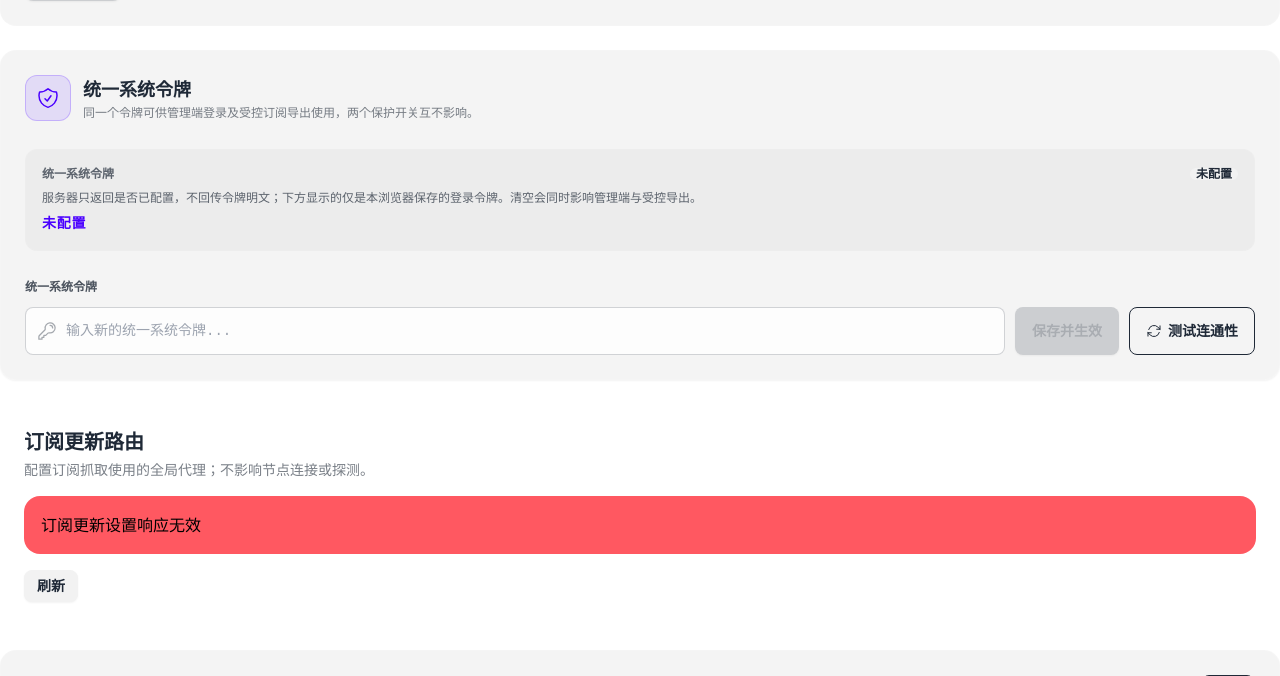
Test: SettingsView Component › tests connectivity to backend and shows success state when reachable
(page scrolled)
Click the button with test id "test-connection-btn" at (1192, 331), box [1129, 307, 1255, 355]
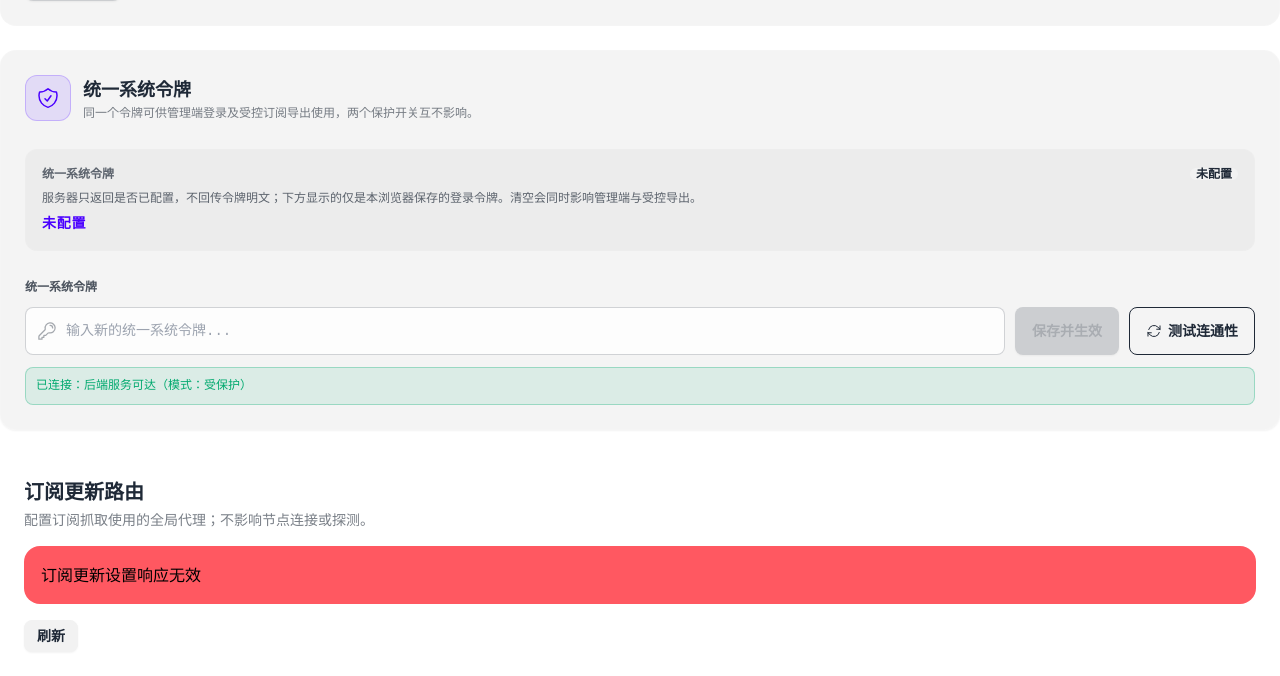
Expected: the text with test id "connection-result" reads "已连接：后端服务可达（模式：受保护）", [36, 379, 252, 393]
